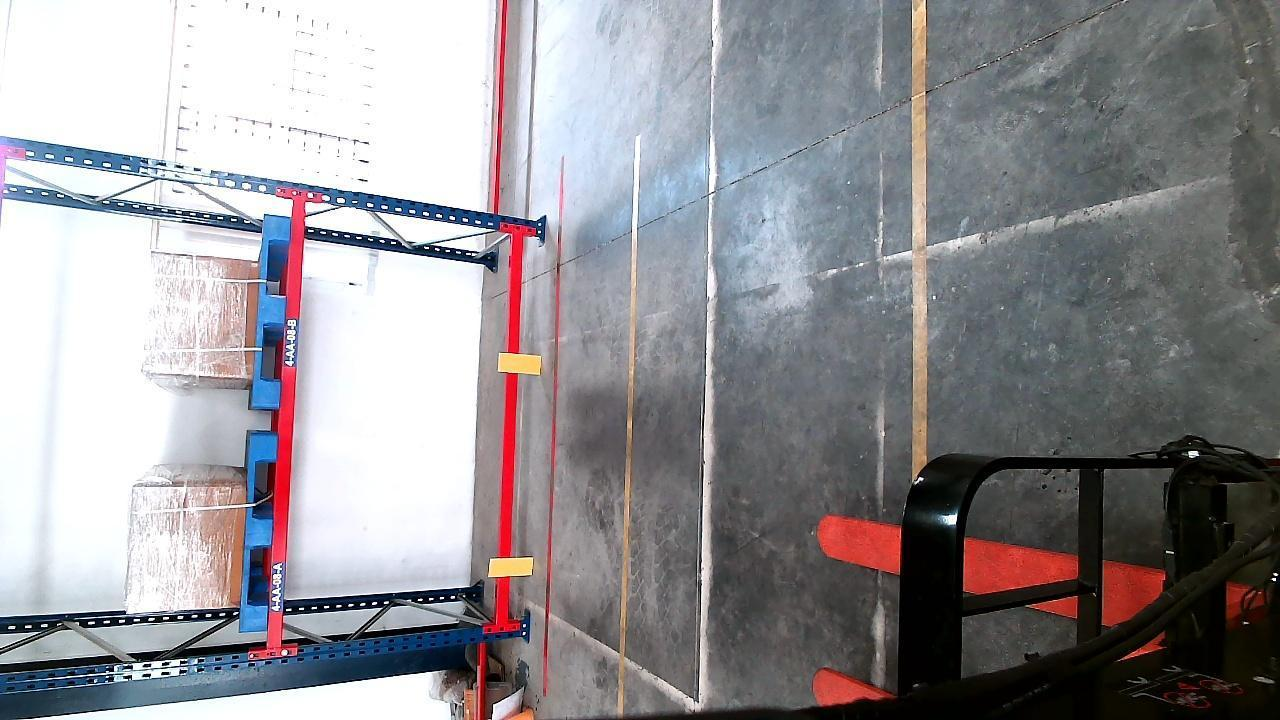h_rack: (267, 194, 307, 652), (498, 224, 524, 656)
orange_strip: (492, 555, 538, 577), (502, 351, 545, 374)
red_line: (544, 155, 568, 692)
small_pallet: (255, 220, 291, 416), (243, 439, 278, 622)
yellow_line: (612, 133, 642, 720), (908, 0, 930, 464)
